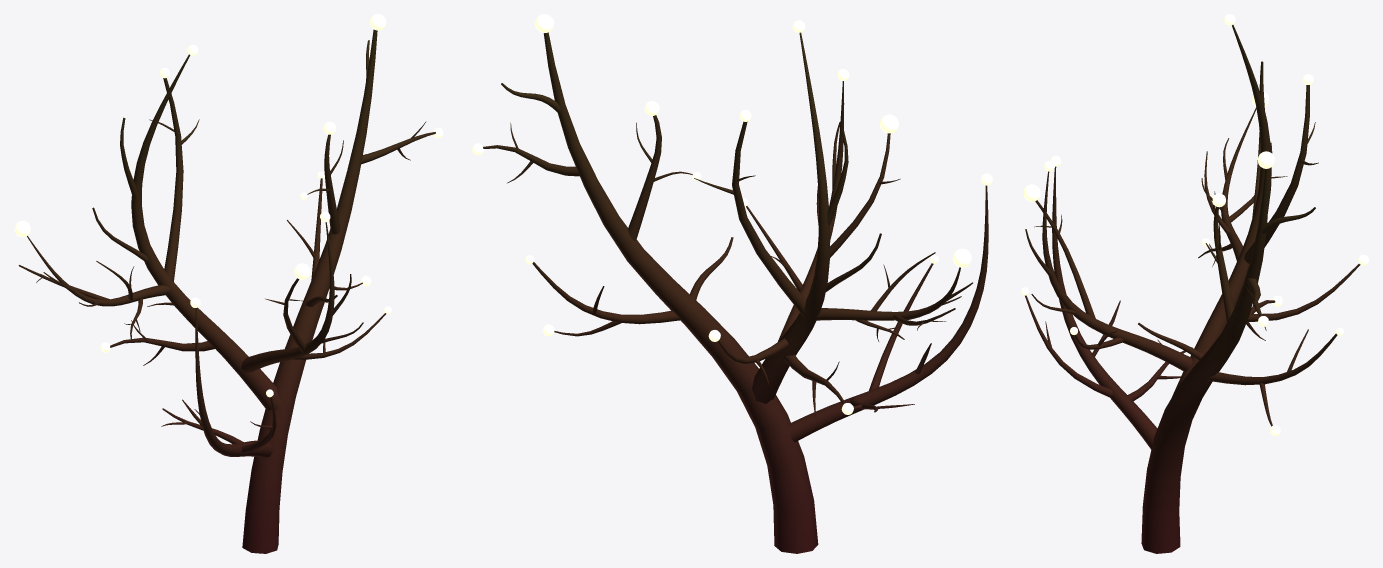
Rendered from Trees for Texture.fbx.
The picture shows the model from 3 angles, left to right: view 1: azimuth 30°, elevation 25°; view 2: azimuth 150°, elevation 25°; view 3: azimuth 270°, elevation 25°; orthographic projection. The views are drawn at different scales.
Parts seen in each view (by area): view 1: Tree, Light_Ball; view 2: Tree, Light_Ball; view 3: Tree, Light_Ball.
Boxes of the visible parts, <box> form: Tree: <box>18,29,435,553</box>; Light_Ball: <box>14,14,443,397</box>; Tree: <box>483,32,988,553</box>; Light_Ball: <box>472,14,992,414</box>; Tree: <box>1025,25,1360,553</box>; Light_Ball: <box>1021,14,1368,436</box>.
Size of the model in its own units: 20.45 by 22.15 by 13.61.
1 material, 1 textured.
